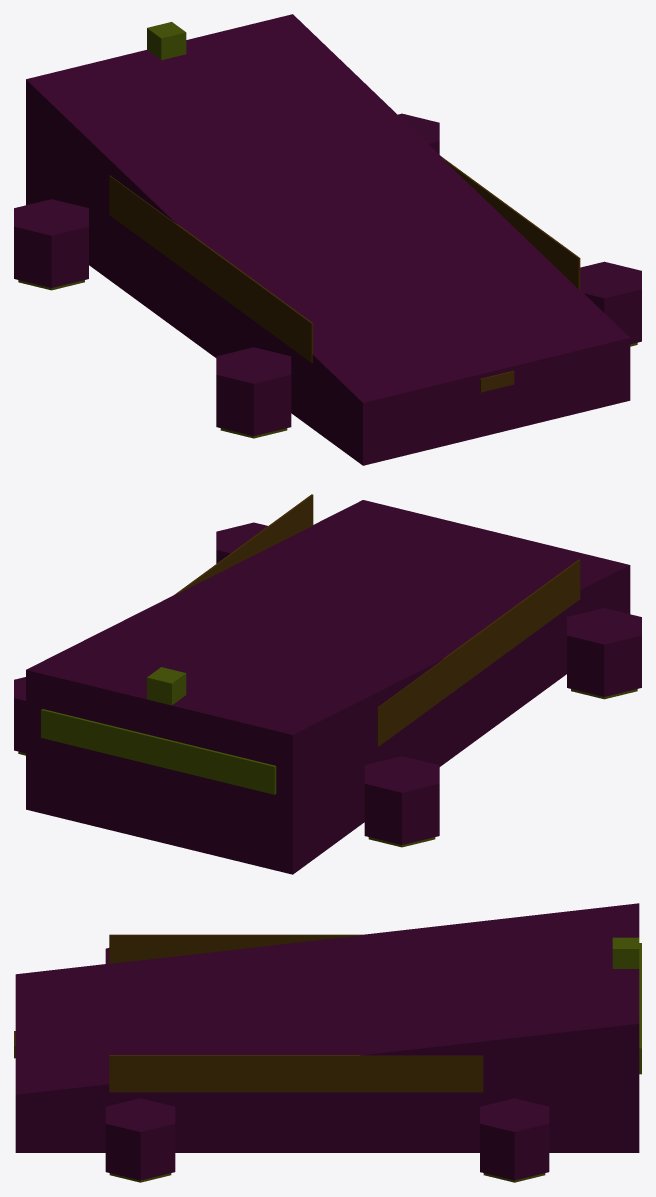
The model's file is flyer_a.glb.
3 views of the same model, one above another, from view 1: azimuth 30°, elevation 25°; view 2: azimuth 150°, elevation 25°; view 3: azimuth 270°, elevation 25° (orthographic). The views are drawn at different scales.
Visible parts, largest first — view 1: flyer_a; view 2: flyer_a; view 3: flyer_a.
Boxes of the visible parts, x1,y1,x2,y2 form: flyer_a: [14, 14, 641, 465]; flyer_a: [14, 494, 641, 874]; flyer_a: [14, 903, 641, 1182].
Size of the model in its own units: 5.1 by 1.85 by 7.05.
